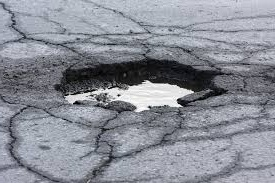pothole: (36, 51, 232, 110)
